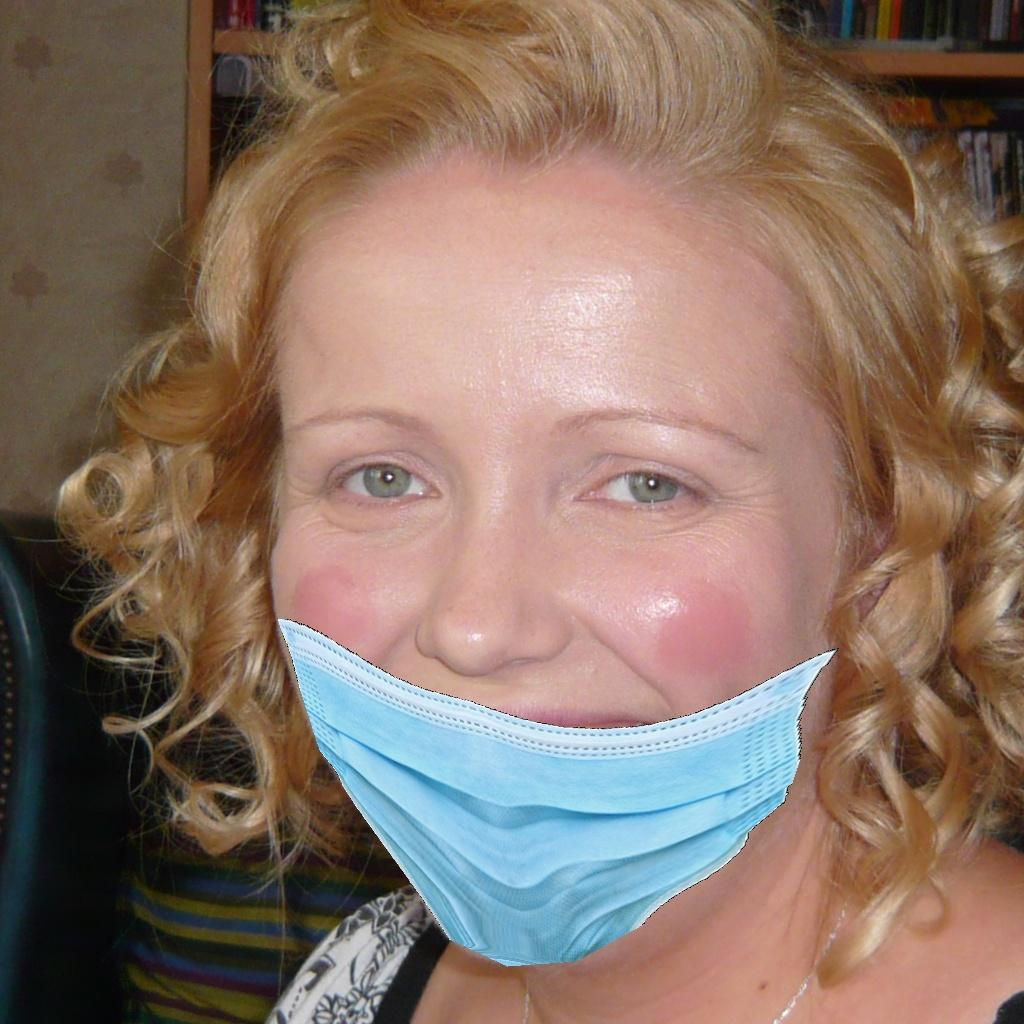Máscara Incorreta: (263, 310, 817, 939)
